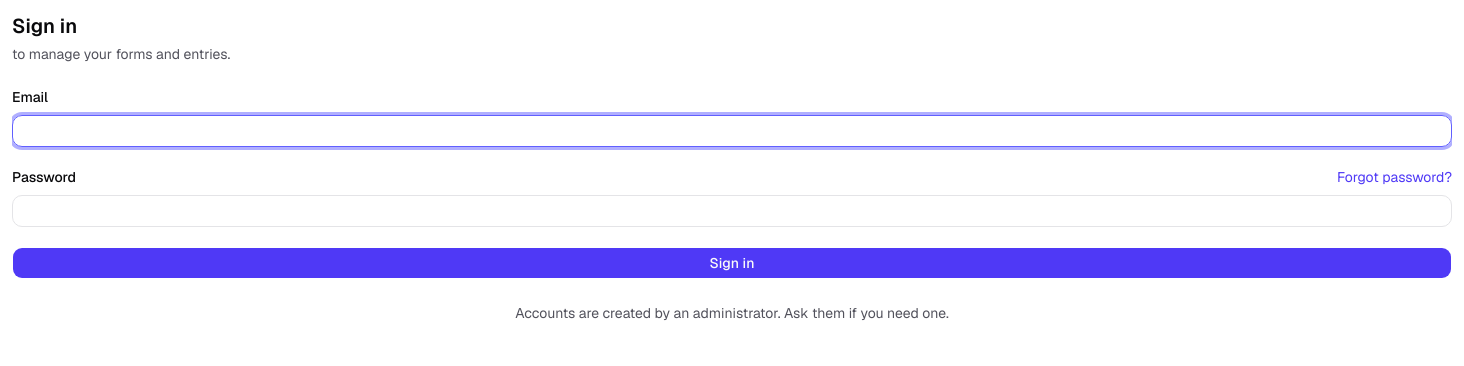
Test: LoginForm › shows wrong credentials on the email field
Type "ada@example.com" into the field labelled "Email" at {"x": 732, "y": 131}, box [12,115,1452,147]
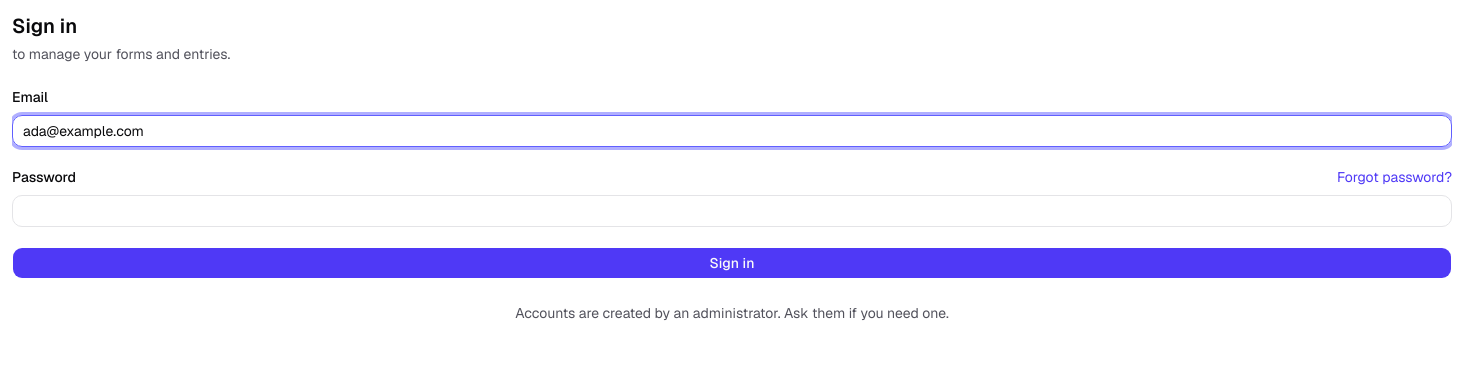
Type "wrong" into the password field labelled "Password" at {"x": 732, "y": 211}, box [12,195,1452,227]
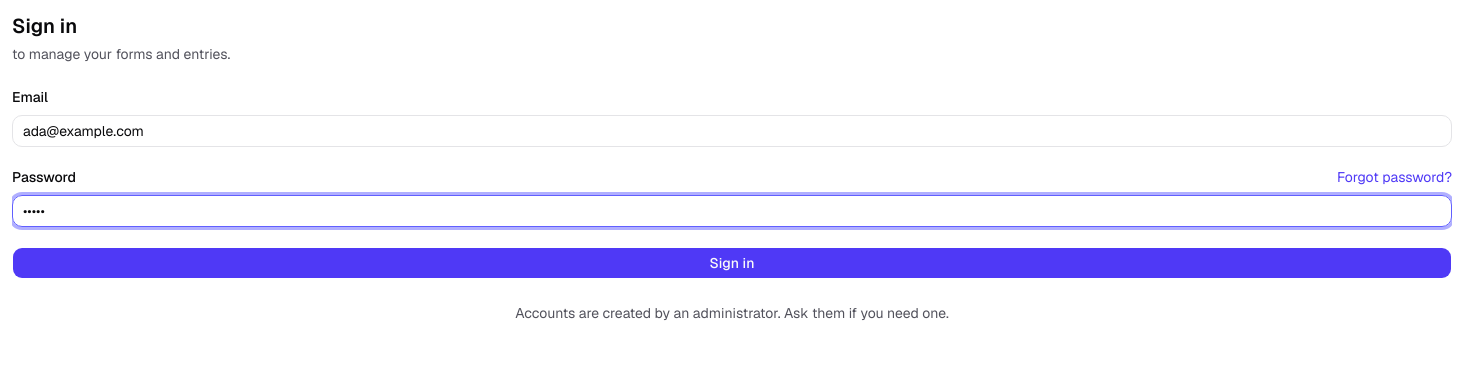
Click the button "Sign in" at {"x": 732, "y": 263}, box [12,247,1452,279]
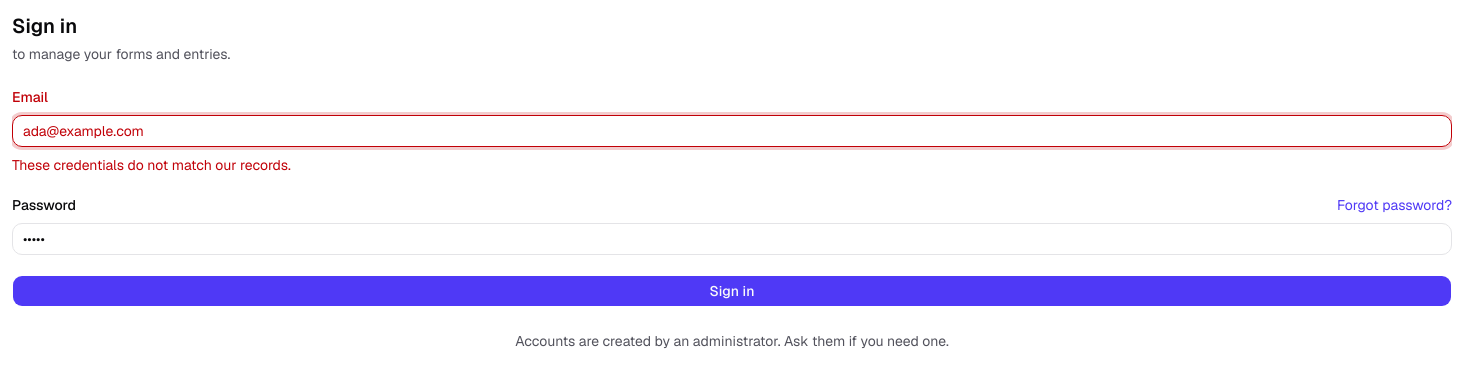
Expected: the text "These credentials do not match our records." is shown once, [12,156,291,174]
